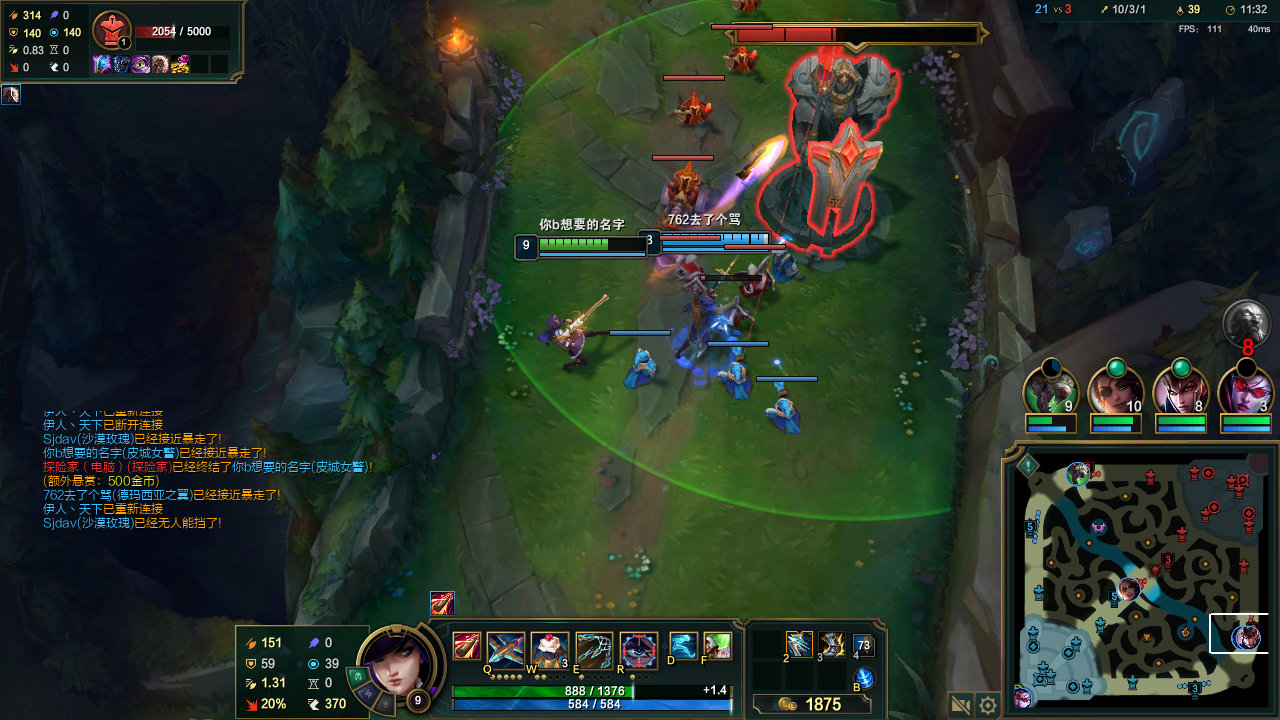DFFYT: (733, 30, 915, 256)
DFXB: (658, 162, 699, 216), (735, 270, 774, 307), (674, 90, 713, 122), (710, 293, 744, 325), (725, 46, 756, 69)
WFXB: (618, 345, 670, 388), (718, 353, 750, 397), (768, 250, 796, 280), (764, 392, 792, 420)
